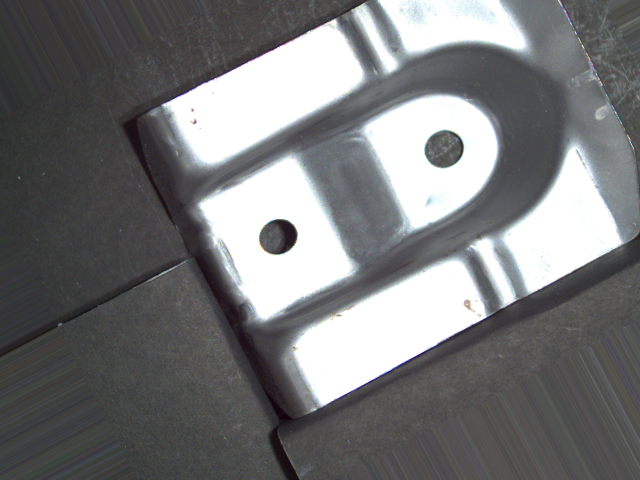defect: (420, 124, 467, 175)
